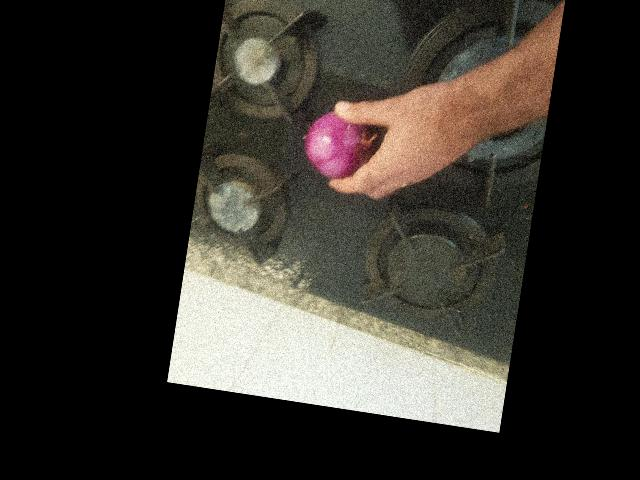onion: (223, 224, 301, 302)
